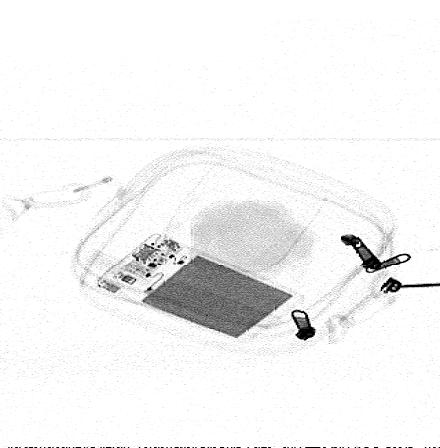Powerbank: (94, 233, 307, 344)
